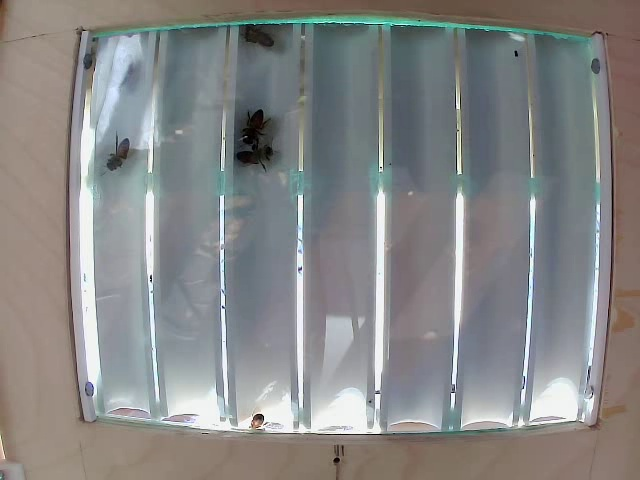bee: (100, 131, 146, 174), (239, 145, 280, 175), (242, 18, 277, 52), (235, 114, 275, 138)
